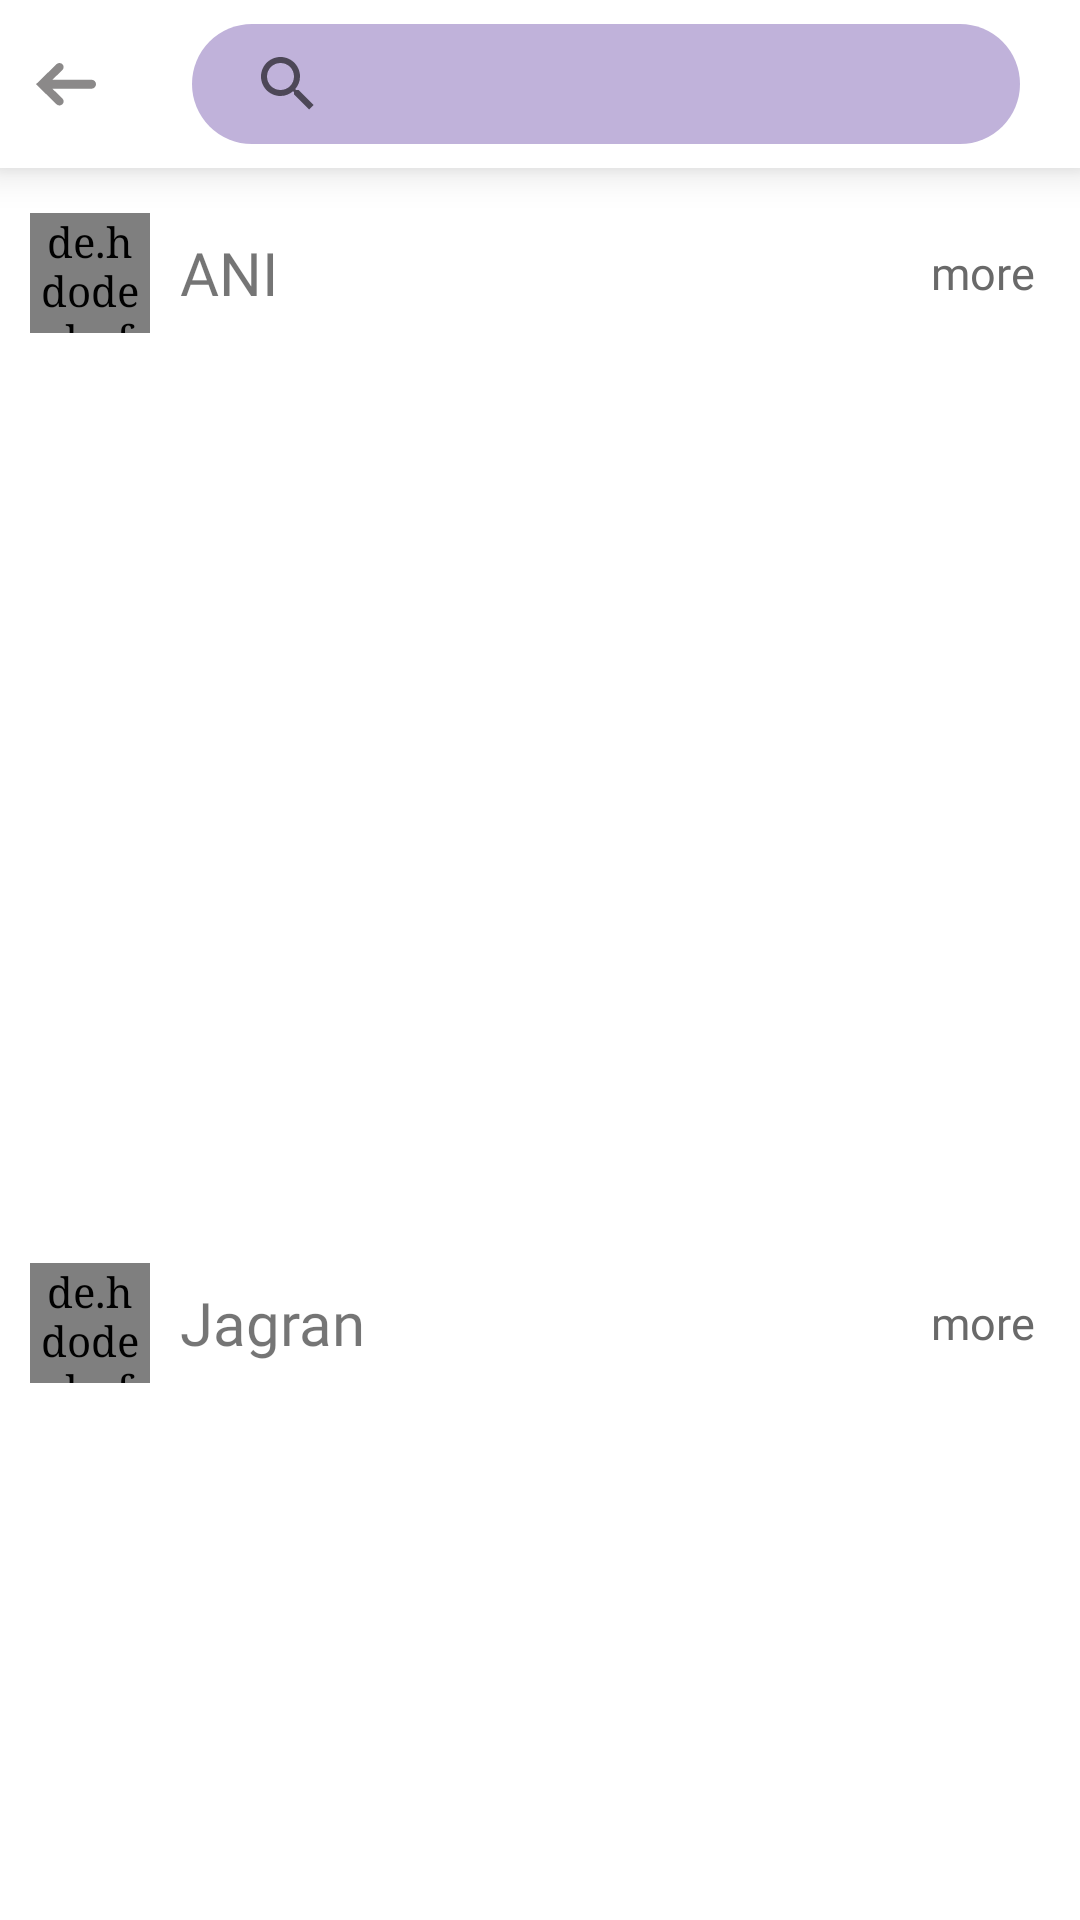

Icon bounding boxes for this 1080px x 1920px phone screenshot, format box(x1, y1, x2, y2):
back arrow: box(36, 63, 96, 106)
